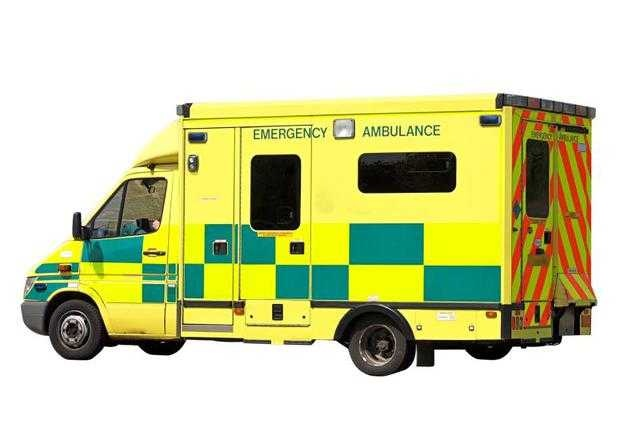Ambulance: (34, 75, 596, 380)
